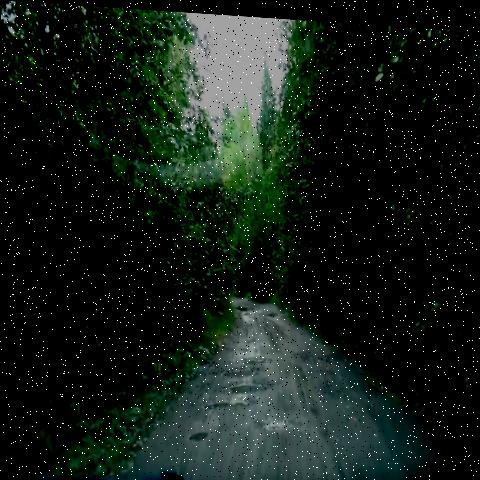pothole: (199, 385, 252, 415), (221, 372, 271, 399), (214, 353, 265, 379), (255, 407, 293, 436), (178, 419, 215, 447), (260, 300, 281, 326), (228, 298, 254, 319)
